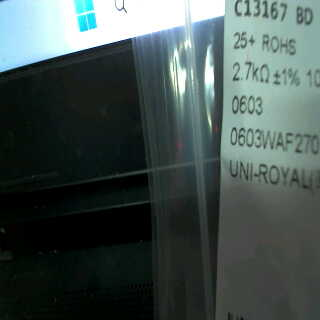2.7kR: (225, 60, 277, 87)
